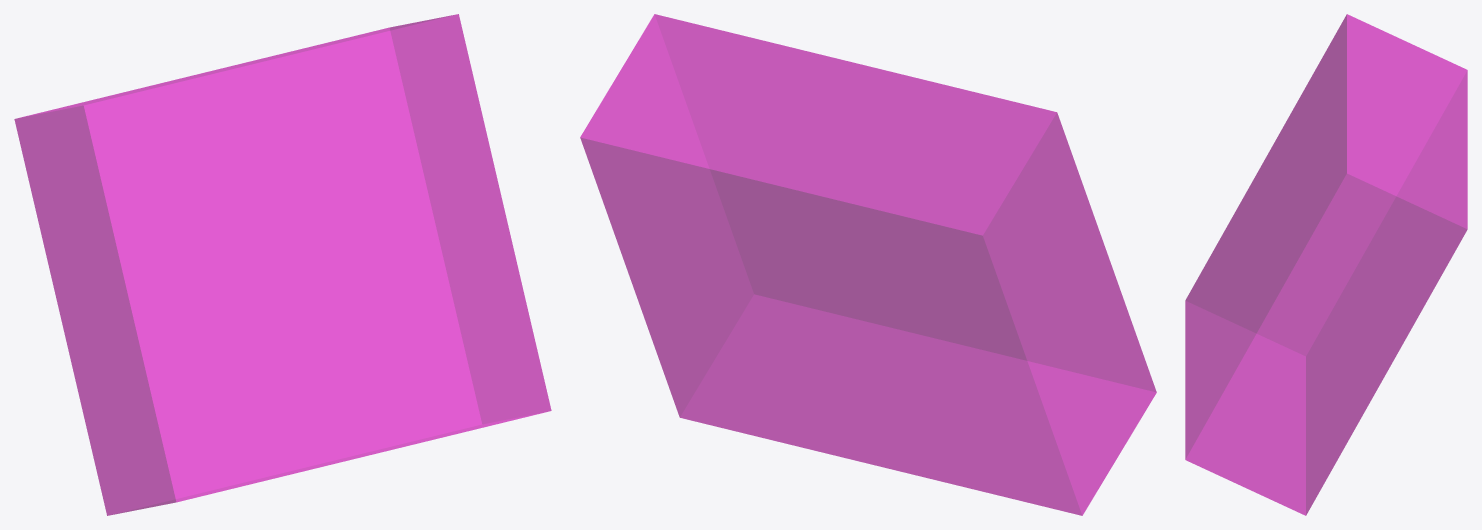
File: SM_Prop_Couch_Suite_01_Cushion_01_Collision.fbx
The picture shows the model from 3 angles, left to right: view 1: azimuth 30°, elevation 25°; view 2: azimuth 150°, elevation 25°; view 3: azimuth 270°, elevation 25°; orthographic projection. The views are drawn at different scales.
Visible parts, largest first — view 1: SM_Prop_Couch_Suite_01_Cushion_01_Collision; view 2: SM_Prop_Couch_Suite_01_Cushion_01_Collision; view 3: SM_Prop_Couch_Suite_01_Cushion_01_Collision.
Part boxes in pixels (bbox=[...]): SM_Prop_Couch_Suite_01_Cushion_01_Collision: bbox=[14, 14, 551, 515]; SM_Prop_Couch_Suite_01_Cushion_01_Collision: bbox=[580, 14, 1156, 515]; SM_Prop_Couch_Suite_01_Cushion_01_Collision: bbox=[1185, 14, 1467, 515].
Bounding box in the file's own units: 45.78 × 45.86 × 34.27.
